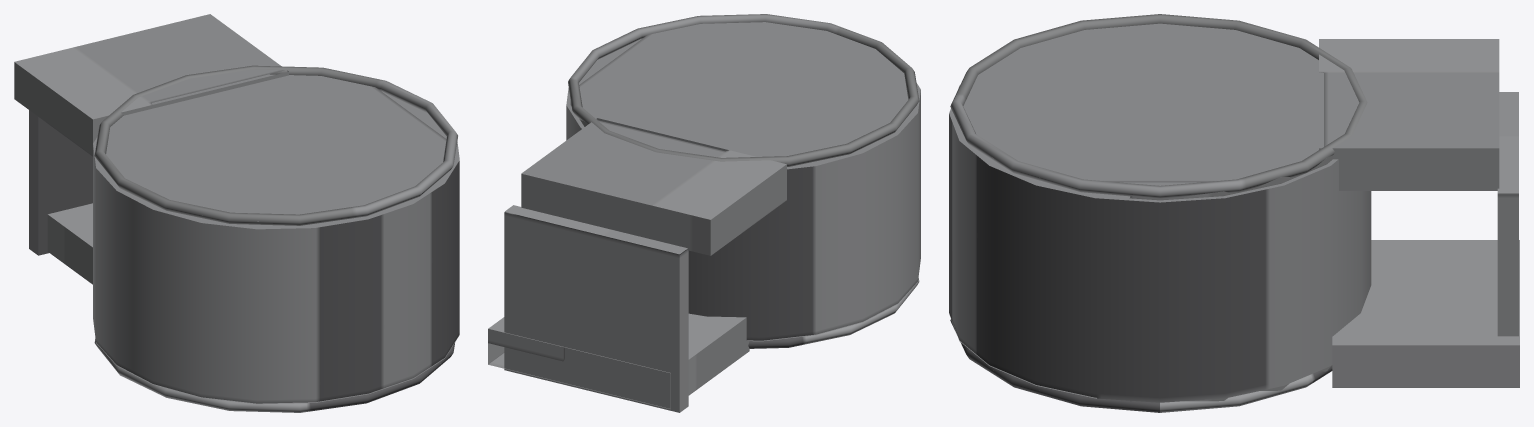
3 views of the same model, side by side, from view 1: azimuth 30°, elevation 25°; view 2: azimuth 150°, elevation 25°; view 3: azimuth 270°, elevation 25° (orthographic). The views are drawn at different scales.
Bounding box in the file's own units: 1.49 × 0.8924 × 2.02.
